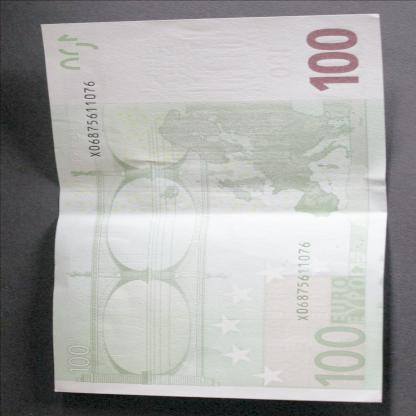euro_banknote: (25, 45, 414, 383)
